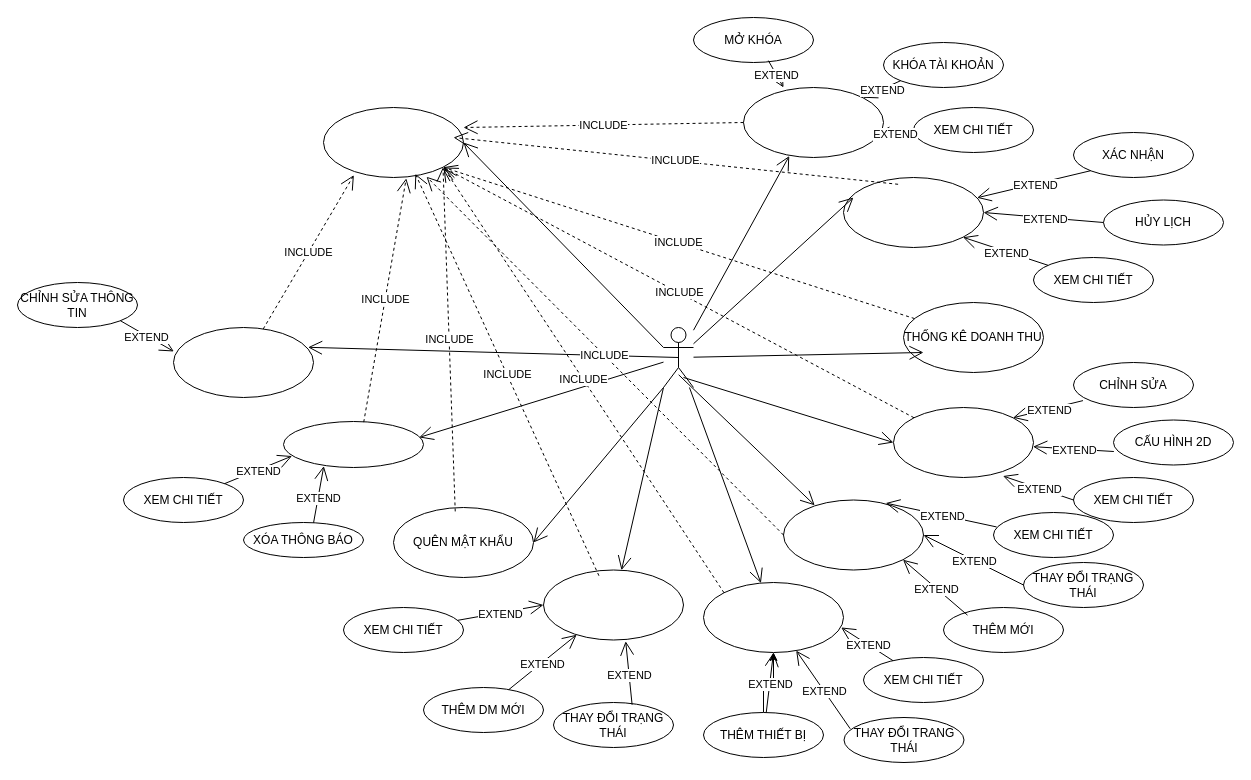
The diagram is 1251 pixels wide and 780 high, and some of its shapes have lost their labels. The shapes that lost their labels are listed below. From the top down, each one's centre as x and y in pixels, then its label:
(393,142): ĐĂNG NHẬP
(813,122): QUẢN LÝ NGƯỜI DÙNG
(913,212): QUẢN LÝ LỊCH ĐẶT
(243,362): QUẢN LÝ THÔNG TIN CÁ NHÂN
(678,357): ADMIN
(353,444): QUẢN Ý THÔNG BÁO
(963,442): CẤU HÌNH SƠ ĐỒ 2D
(853,534): QUẢN LÍ BẢNG GIÁ
(613,604): QUẢN LÝ DANH MỤC GHẾ
(773,617): QUẢN LÝ TRẠNG THÁI THIẾT BỊ
